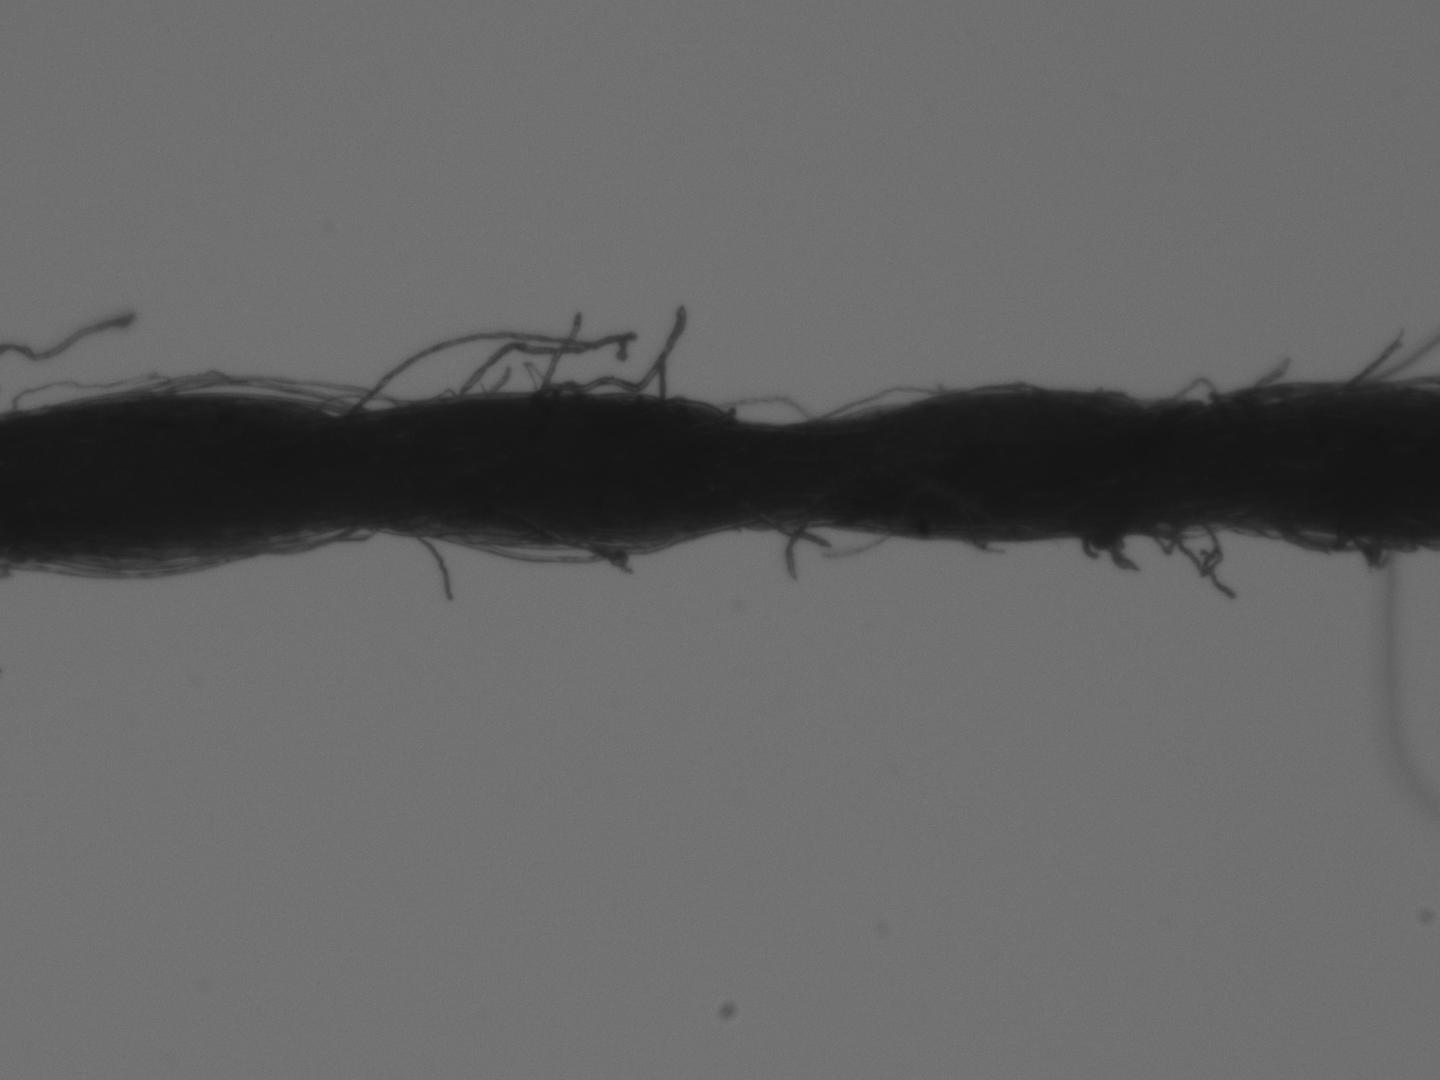loop_fiber: (139, 369, 399, 415), (15, 538, 260, 582), (807, 381, 945, 423), (540, 535, 689, 572), (246, 520, 367, 557), (1153, 518, 1225, 576), (1155, 373, 1228, 407), (1267, 531, 1358, 555)
protruding_fiber: (406, 521, 457, 604), (1341, 330, 1405, 389), (786, 521, 818, 581)
